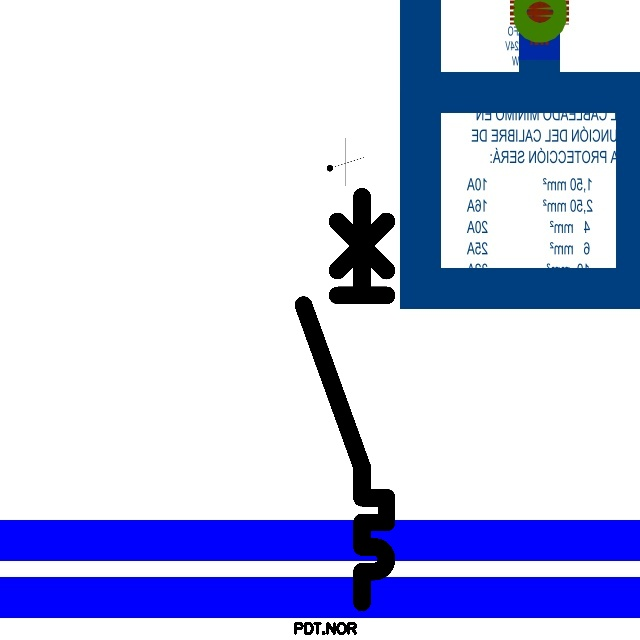interruptor_termomagnetico: (293, 186, 397, 613)
